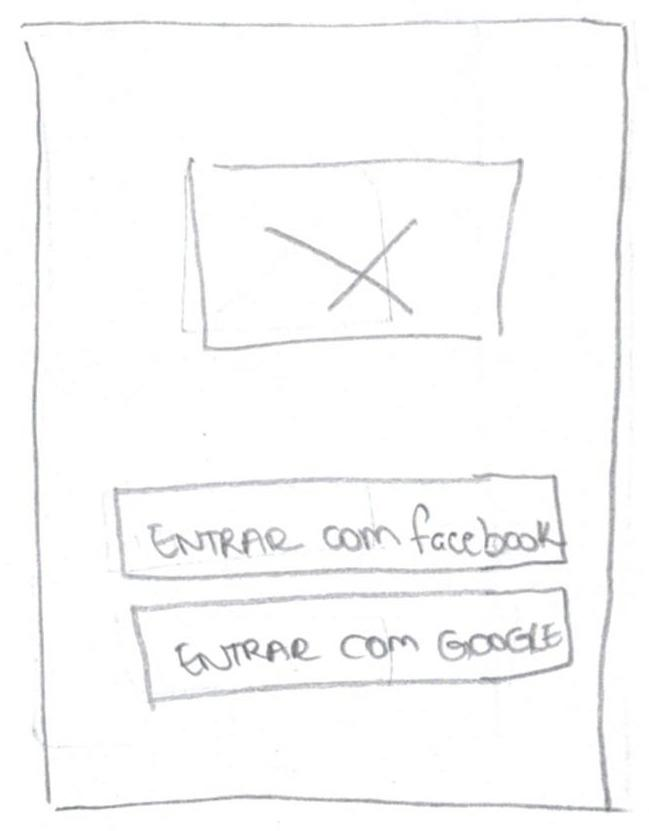Button: (127, 587, 573, 705), (115, 474, 567, 580)
Image: (182, 157, 523, 351)
Screen: (25, 21, 627, 812)
